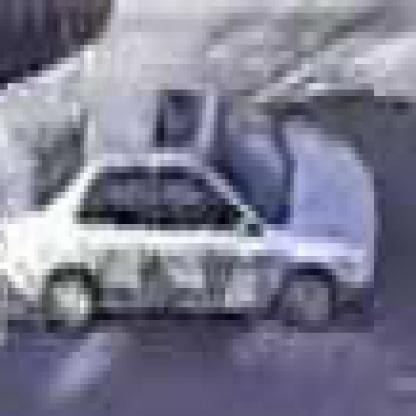car: (5, 84, 375, 340)
